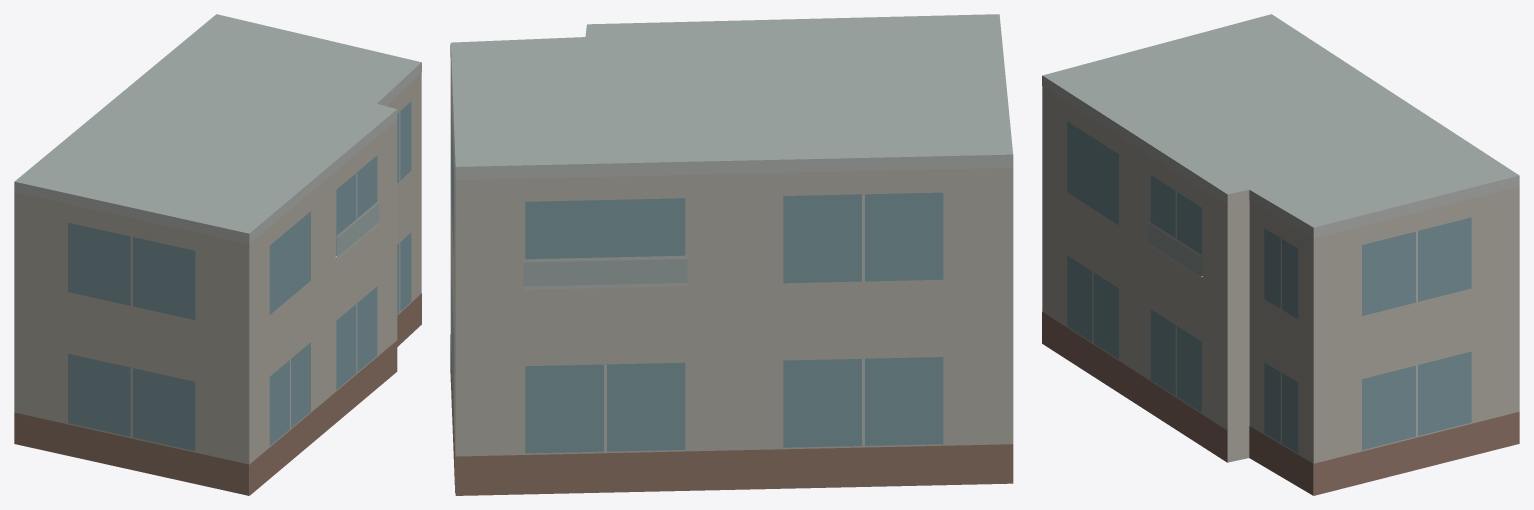
File: survey-upis-32604425.glb
3 renders of one model, left to right at view 1: azimuth 30°, elevation 25°; view 2: azimuth 150°, elevation 25°; view 3: azimuth 270°, elevation 25°, orthographic. The views are drawn at different scales.
Parts seen in each view (by area): view 1: survey-upis-32604425.tmp; view 2: survey-upis-32604425.tmp; view 3: survey-upis-32604425.tmp.
Boxes of the visible parts, x1,y1,x2,y2 form: survey-upis-32604425.tmp: (14,14,421,495); survey-upis-32604425.tmp: (450,14,1013,495); survey-upis-32604425.tmp: (1042,14,1519,495).
Bounding box in the file's own units: 10.43 × 6.1 × 9.85.
